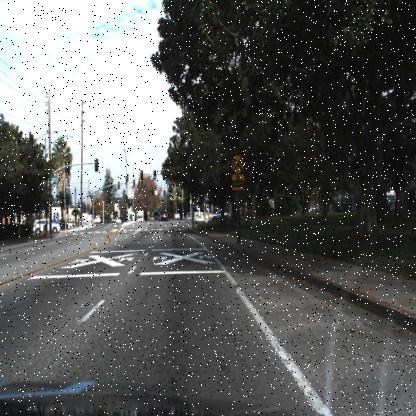car: (31, 215, 62, 232), (211, 208, 230, 224), (160, 210, 171, 226), (174, 209, 184, 223)
trafficLight-Green: (152, 168, 158, 179), (152, 169, 158, 180)
trafficLight-RedLeft: (140, 169, 144, 180)
truck: (135, 205, 145, 226)
